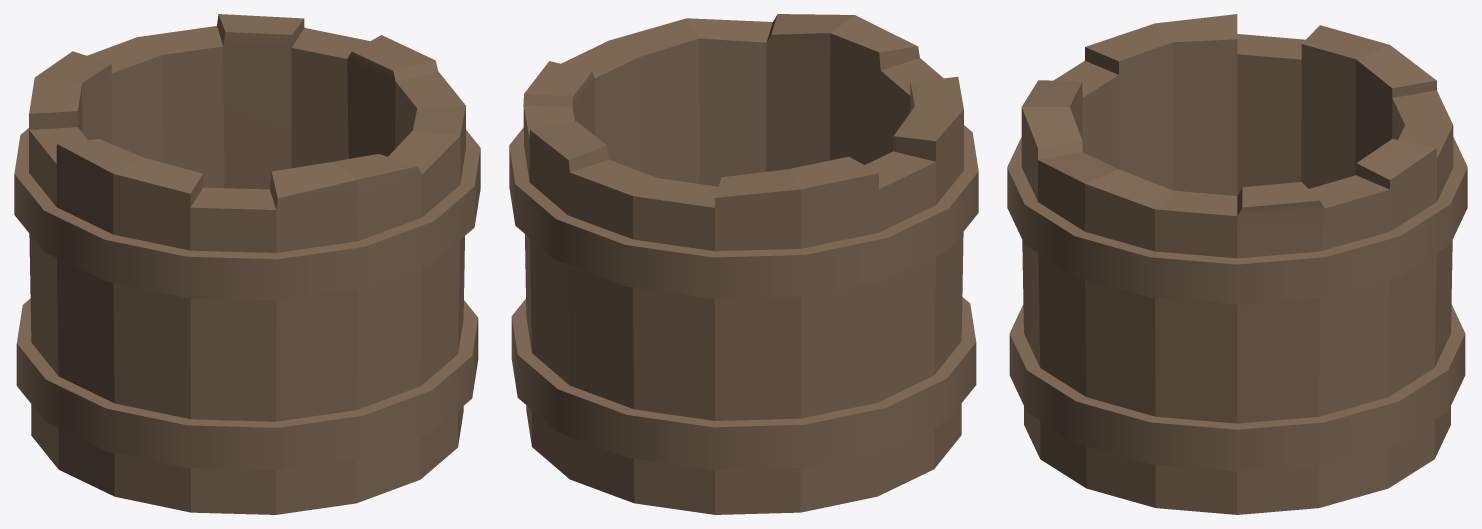
Rendered from Barrel_04_LOD0_Mesh.fbx.
The picture shows the model from 3 angles, left to right: view 1: azimuth 30°, elevation 25°; view 2: azimuth 150°, elevation 25°; view 3: azimuth 270°, elevation 25°; orthographic projection. The views are drawn at different scales.
Parts seen in each view (by area): view 1: Barrel04; view 2: Barrel04; view 3: Barrel04.
Boxes of the visible parts, x1,y1,x2,y2 form: Barrel04: (14, 14, 480, 514); Barrel04: (509, 14, 978, 514); Barrel04: (1007, 14, 1467, 514).
Bounding box in the file's own units: 37.8 × 28.94 × 37.8.
